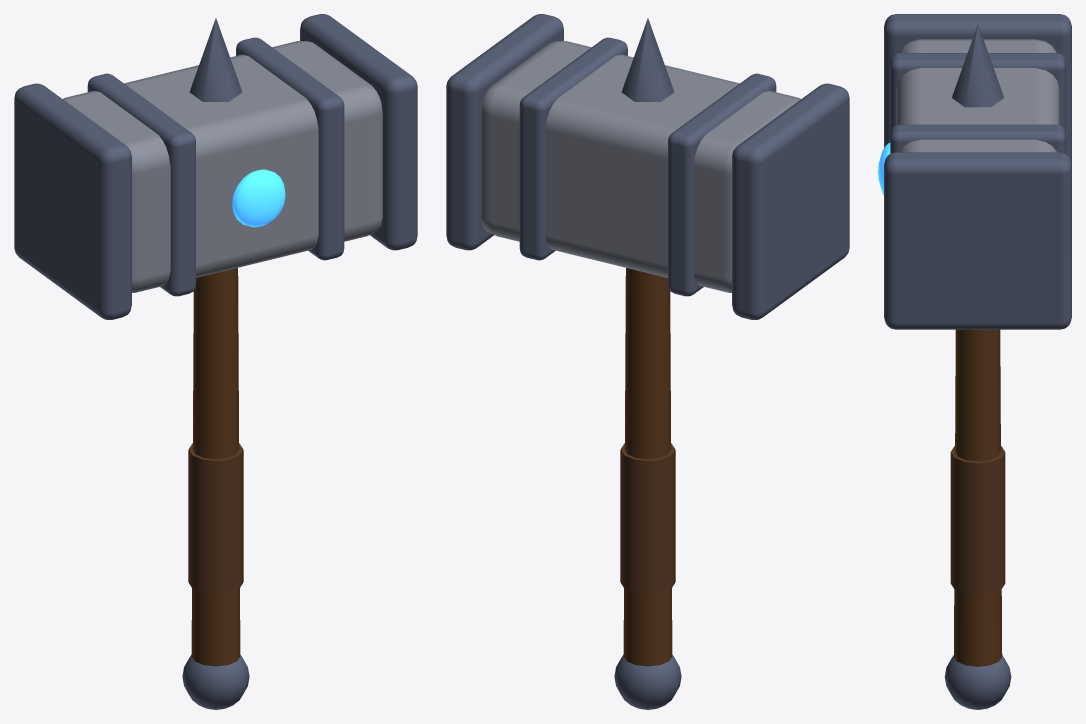
The model's file is hammer_titan.glb.
The picture shows the model from 3 angles, left to right: view 1: azimuth 30°, elevation 25°; view 2: azimuth 150°, elevation 25°; view 3: azimuth 270°, elevation 25°; orthographic projection.
Visible parts, largest first — view 1: Block, Cap-1, Shaft, Cap1, GripWrap, Band1, Band-1, Pommel, Gem, Spike; view 2: Block, Cap-1, Shaft, Cap1, GripWrap, Band1, Band-1, Pommel, Spike; view 3: Cap1, Block, Shaft, GripWrap, Cap-1, Band-1, Band1, Pommel, Spike.
Boxes of the visible parts, x1,y1,x2,y2 form: Block: (63, 41, 382, 292); Cap-1: (14, 83, 131, 319); Shaft: (191, 268, 240, 666); Cap1: (300, 14, 417, 250); GripWrap: (188, 443, 243, 593); Band1: (236, 37, 344, 260); Band-1: (87, 73, 195, 296); Pommel: (182, 654, 249, 709); Gem: (232, 169, 285, 227); Spike: (189, 18, 242, 101); Block: (481, 41, 800, 292); Cap-1: (732, 83, 849, 319); Shaft: (623, 268, 672, 666); Cap1: (446, 14, 563, 250); GripWrap: (620, 443, 675, 593); Band1: (519, 37, 627, 260); Band-1: (668, 73, 776, 296); Pommel: (614, 654, 681, 709); Spike: (621, 18, 674, 101); Cap1: (884, 152, 1071, 329); Block: (896, 39, 1059, 152); Shaft: (954, 329, 1002, 666); GripWrap: (950, 446, 1005, 594); Cap-1: (884, 14, 1071, 163); Band-1: (890, 53, 1065, 133); Band1: (890, 124, 1065, 153); Pommel: (944, 655, 1011, 709); Spike: (952, 24, 1004, 107).
Bounding box in the file's own units: 0.6 × 1.25 × 0.32.
